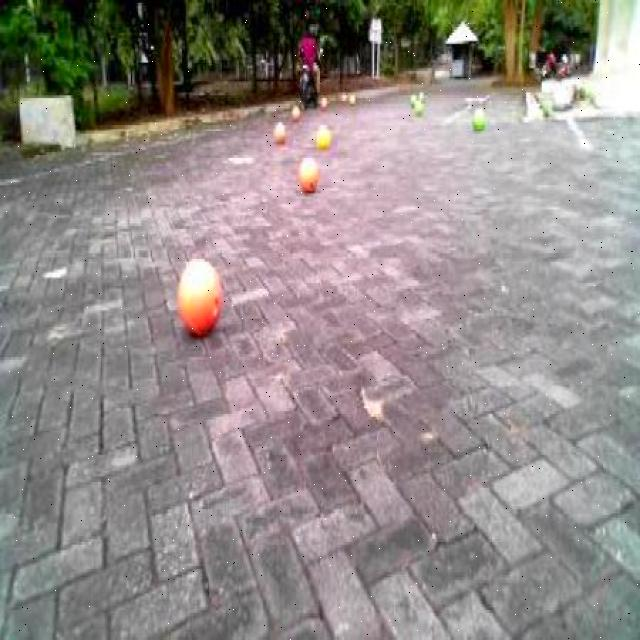buoy: (169, 246, 231, 350), (291, 144, 325, 207), (266, 107, 292, 160), (468, 96, 489, 139), (408, 89, 428, 119)
